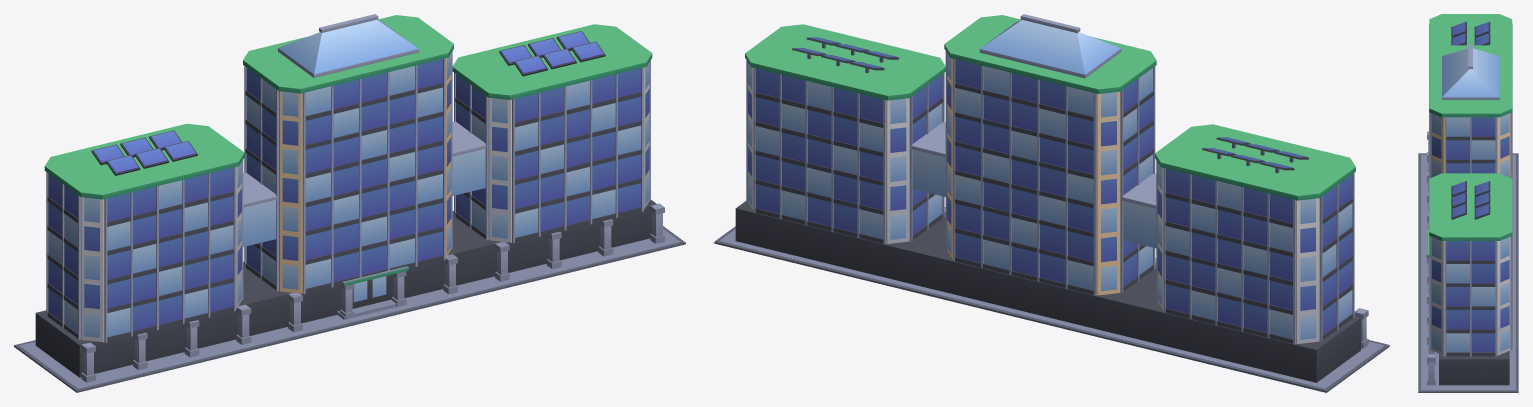
Rendered from off_tech_boulevard_5x1.glb.
3 views of the same model, side by side, from view 1: azimuth 30°, elevation 25°; view 2: azimuth 150°, elevation 25°; view 3: azimuth 270°, elevation 25° (orthographic). The views are drawn at different scales.
Visible parts, largest first — view 1: off_tech_boulevard_5x1; view 2: off_tech_boulevard_5x1; view 3: off_tech_boulevard_5x1.
Part boxes in pixels (box(x1,y1,x2,y2)): off_tech_boulevard_5x1: box(14, 14, 685, 392); off_tech_boulevard_5x1: box(714, 14, 1389, 392); off_tech_boulevard_5x1: box(1418, 14, 1518, 392).
Bounding box in the file's own units: 9.74 × 4.17 × 1.74.
1 material, 1 textured.
